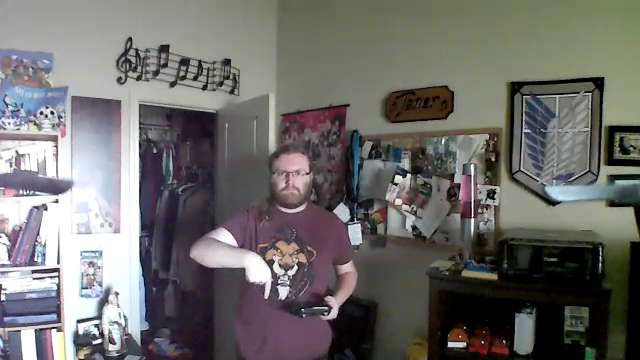down: (238, 243, 277, 306)
